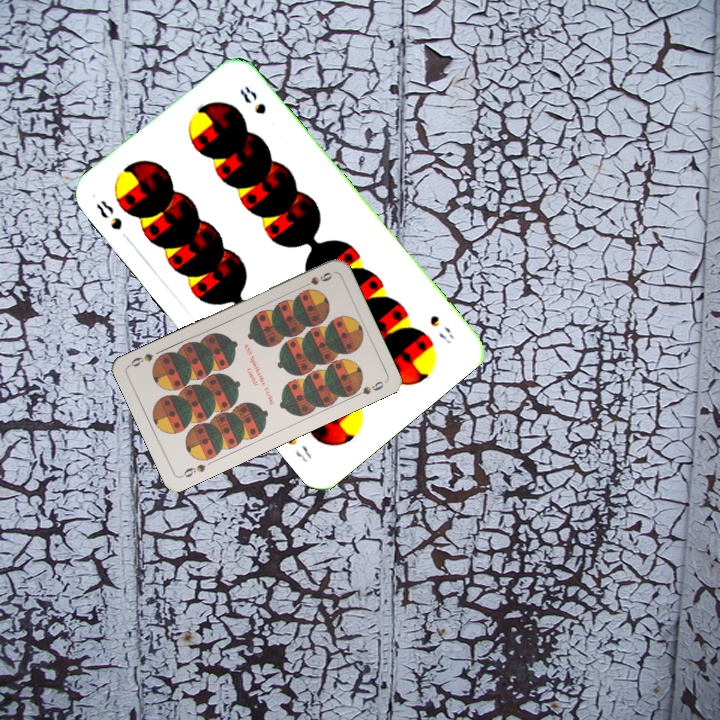S8: (92, 195, 125, 233), (426, 311, 456, 347)
S9: (297, 268, 335, 291), (177, 460, 208, 480)
